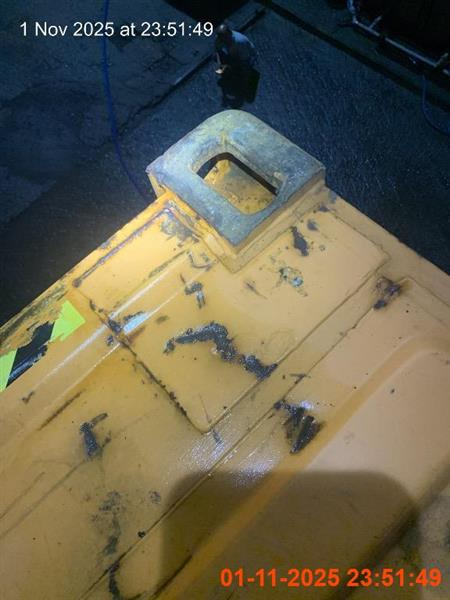crack: (0, 107, 449, 599)
